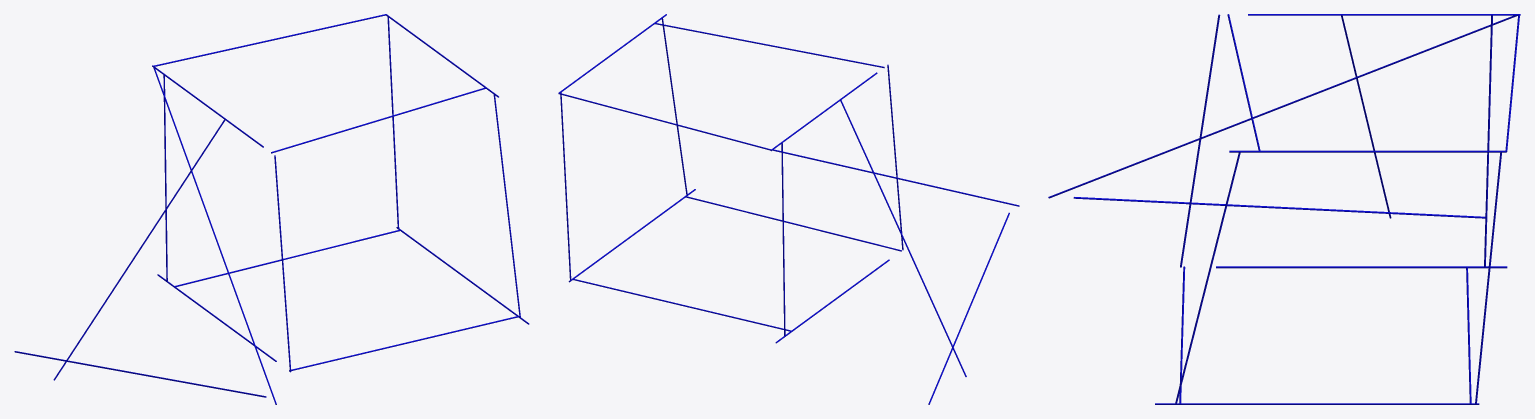
Rendered from corrected_3d_strokes.glb.
3 views of the same model, side by side, from view 1: azimuth 30°, elevation 25°; view 2: azimuth 150°, elevation 25°; view 3: azimuth 270°, elevation 25° (orthographic). The views are drawn at different scales.
Visible parts, largest first — view 1: world; view 2: world; view 3: world.
Boxes of the visible parts, box(x1,y1,x2,y2) form: world: box(14, 14, 529, 404); world: box(558, 14, 1019, 404); world: box(1048, 14, 1520, 404).
Bounding box in the file's own units: 11.18 × 6.74 × 9.76.
